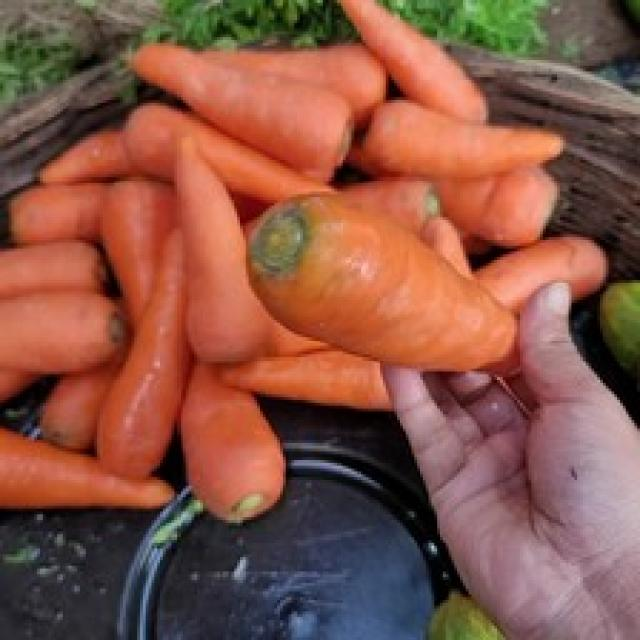Fresh_Carrot: (273, 198, 516, 368), (123, 132, 275, 375), (330, 0, 527, 179), (128, 362, 294, 528), (124, 39, 346, 157), (0, 295, 129, 373)
